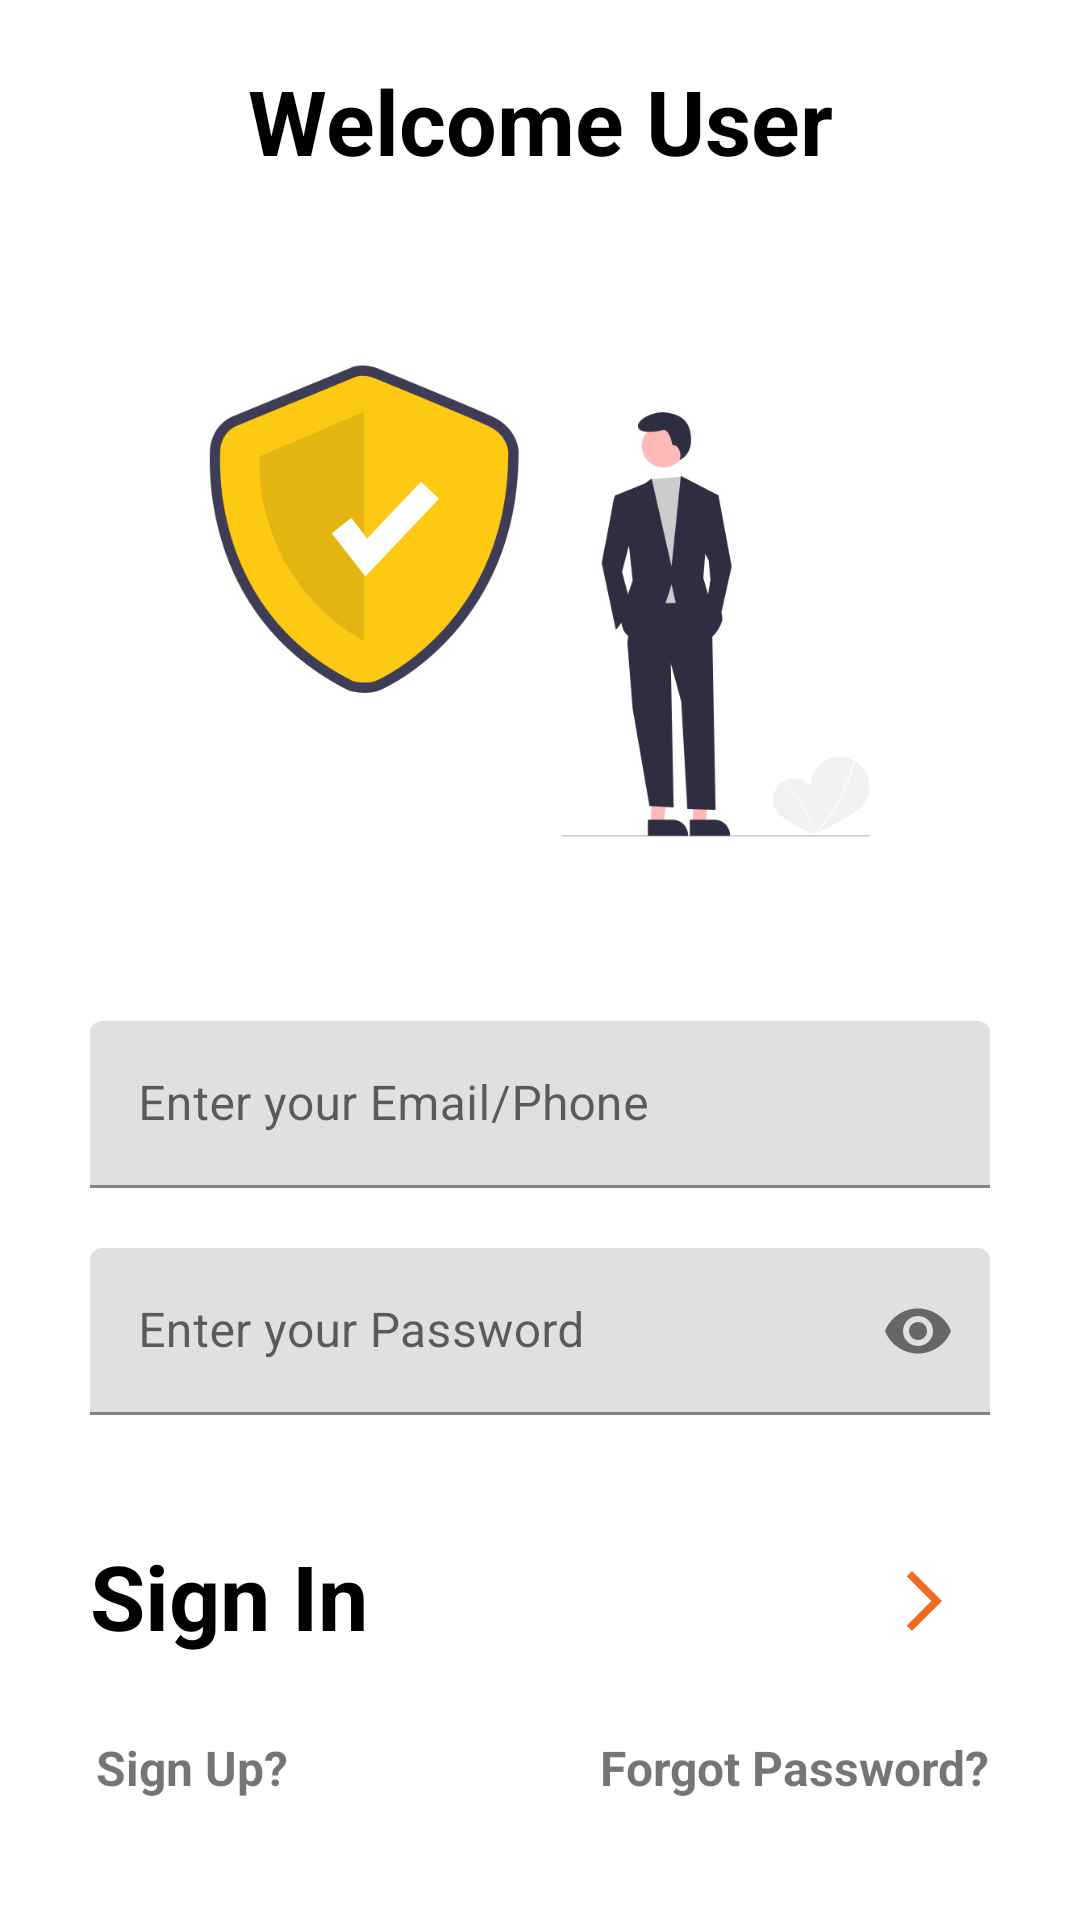

Point at icon controls on the screen. Image size 1080w x 1920h, points as (x,y).
right arrow: (924,1601)
